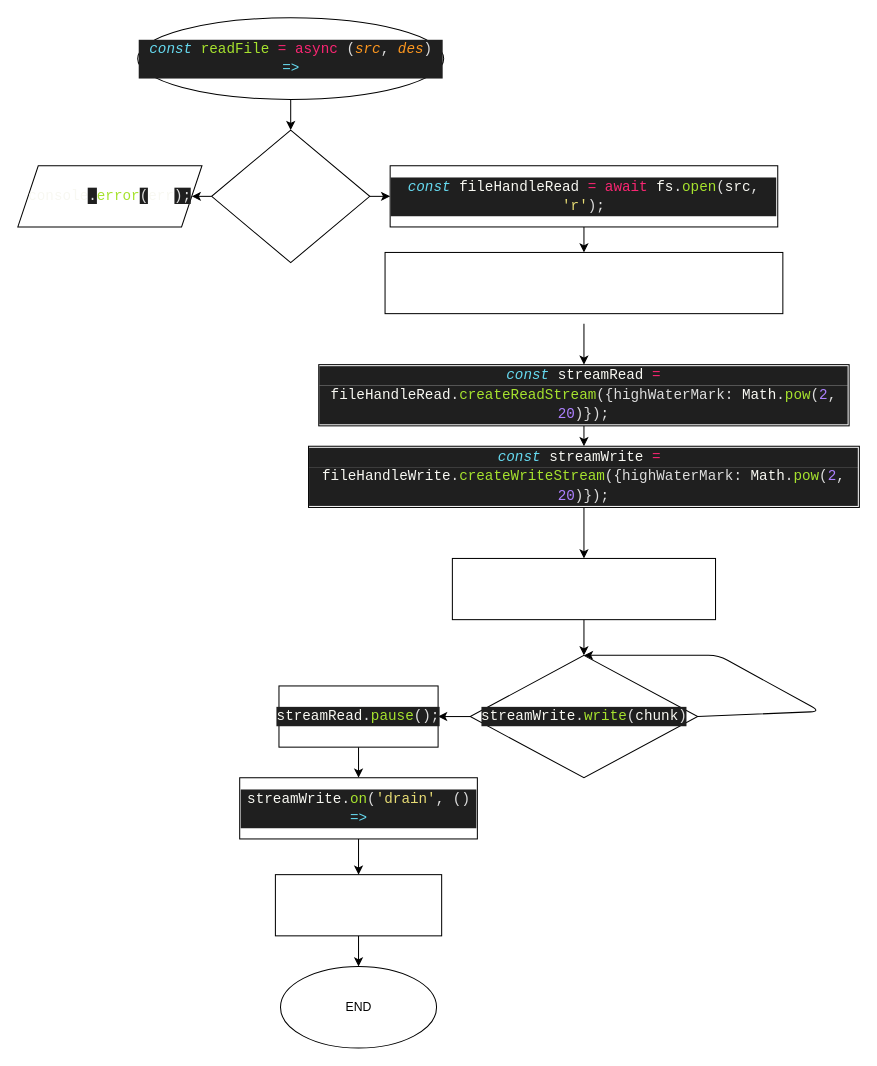
This 877x1066 diagram has some shape labels left out. Here are the shapes that lost their labels. From the top down, the centre of each, then its label:
(x=290, y=196): try { } catch ( err ) {}
(x=583, y=282): const fileHandleWrite = await fs . open ( des , 'w' );
(x=583, y=588): streamRead . on ( 'data' , ( chunk ) =>
(x=358, y=905): streamRead . resume ();
